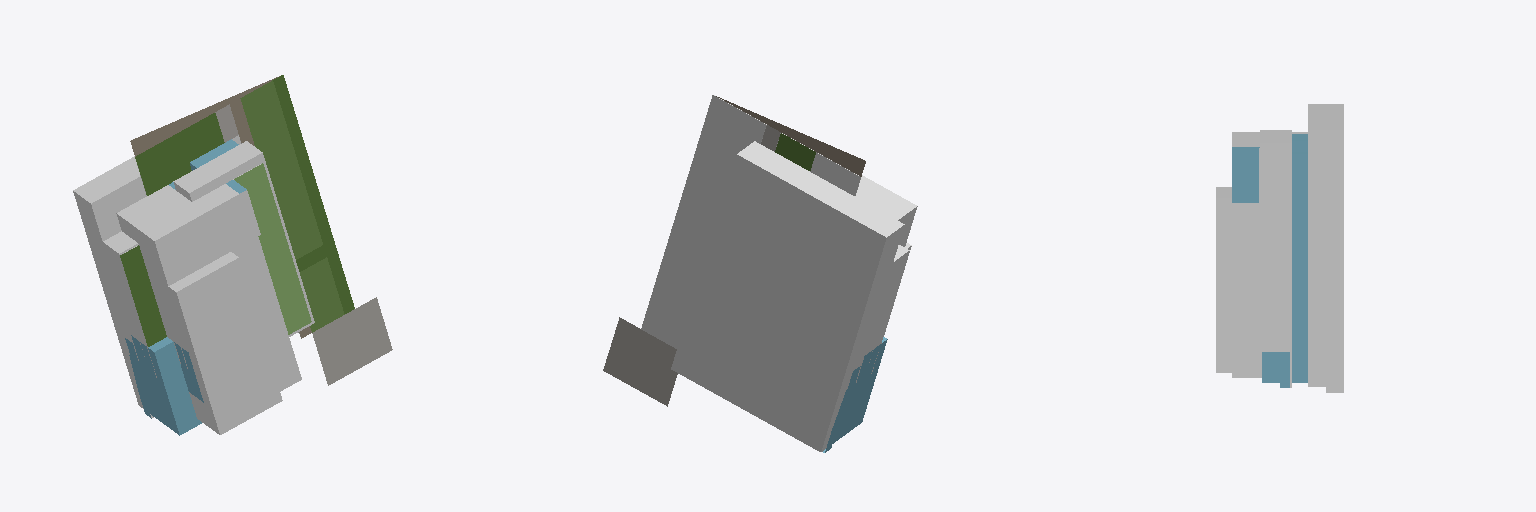
Rendered from opt1-6.obj.
3 renders of one model, left to right at view 1: azimuth 30°, elevation 25°; view 2: azimuth 150°, elevation 25°; view 3: azimuth 270°, elevation 25°, orthographic.
Bounding box in the file's own units: 347 × 355 × 128.